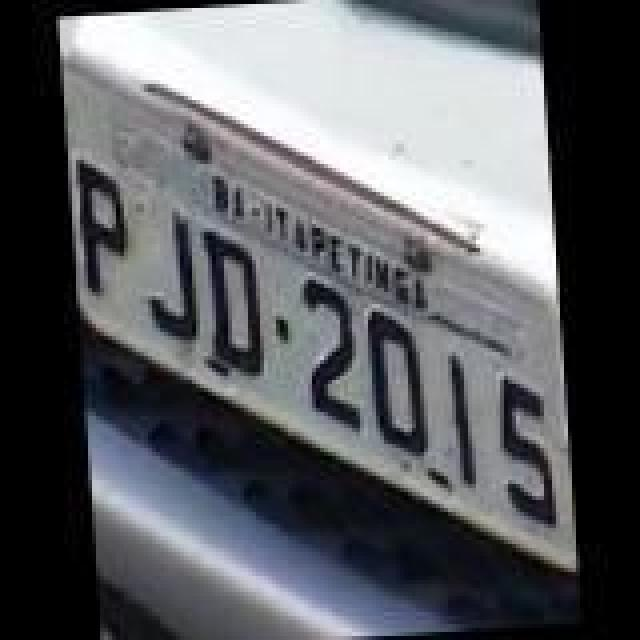1: (442, 352, 486, 496)
2: (296, 278, 368, 434)
5: (490, 378, 566, 534)
D: (200, 222, 272, 386)
J: (140, 204, 204, 348)
O: (366, 306, 434, 462)
P: (70, 150, 138, 298)
